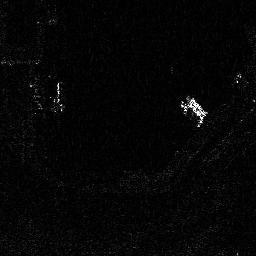ship: (181, 96, 207, 123)
